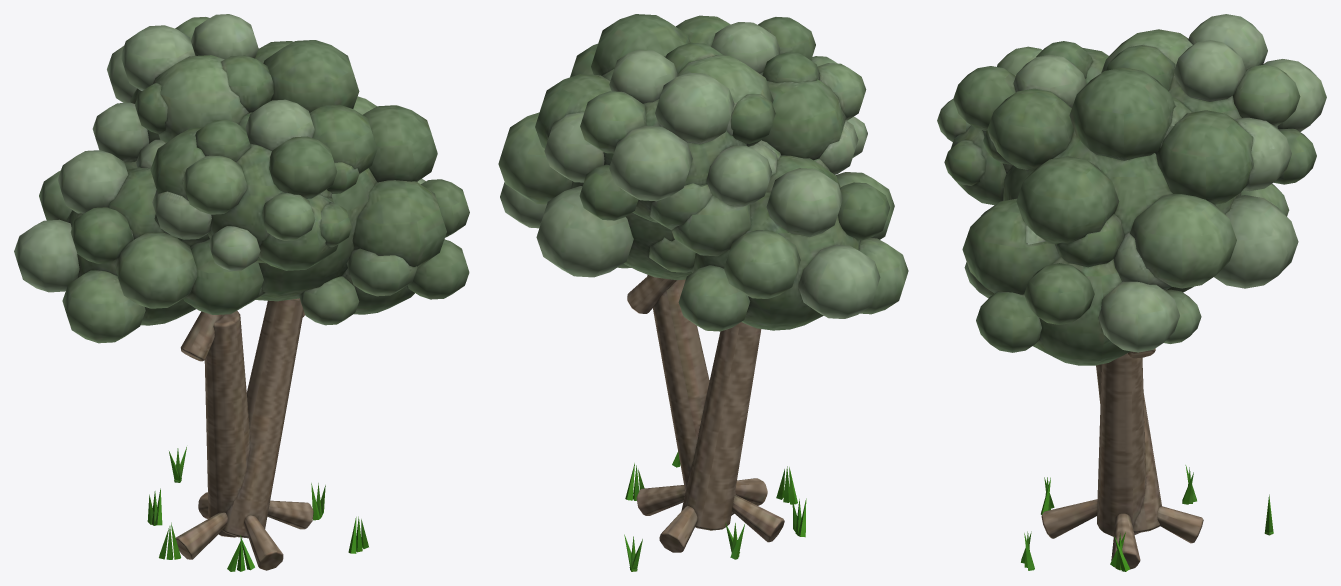
File: olive_tree.glb
3 views of the same model, side by side, from view 1: azimuth 30°, elevation 25°; view 2: azimuth 150°, elevation 25°; view 3: azimuth 270°, elevation 25° (orthographic). The views are drawn at different scales.
Parts seen in each view (by area): view 1: crown, olive_tree; view 2: crown, olive_tree; view 3: crown, olive_tree.
Part boxes in pixels (left/top/right/bottom): crown: left=14, top=14, right=469, bottom=343; olive_tree: left=147, top=298, right=368, bottom=571; crown: left=498, top=14, right=908, bottom=331; olive_tree: left=624, top=275, right=806, bottom=571; crown: left=937, top=14, right=1326, bottom=365; olive_tree: left=1021, top=348, right=1273, bottom=571.
Bounding box in the file's own units: 1.05 × 1.27 × 0.882.
1 material, 1 textured.
